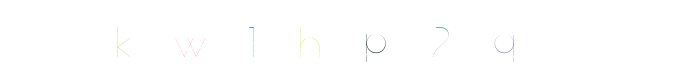1: (267, 0, 347, 80)
2: (363, 0, 443, 80)
H: (297, 0, 377, 80)
K: (145, 0, 225, 80)
P: (347, 0, 427, 80)
Q: (382, 0, 462, 80)
W: (211, 0, 291, 80)
